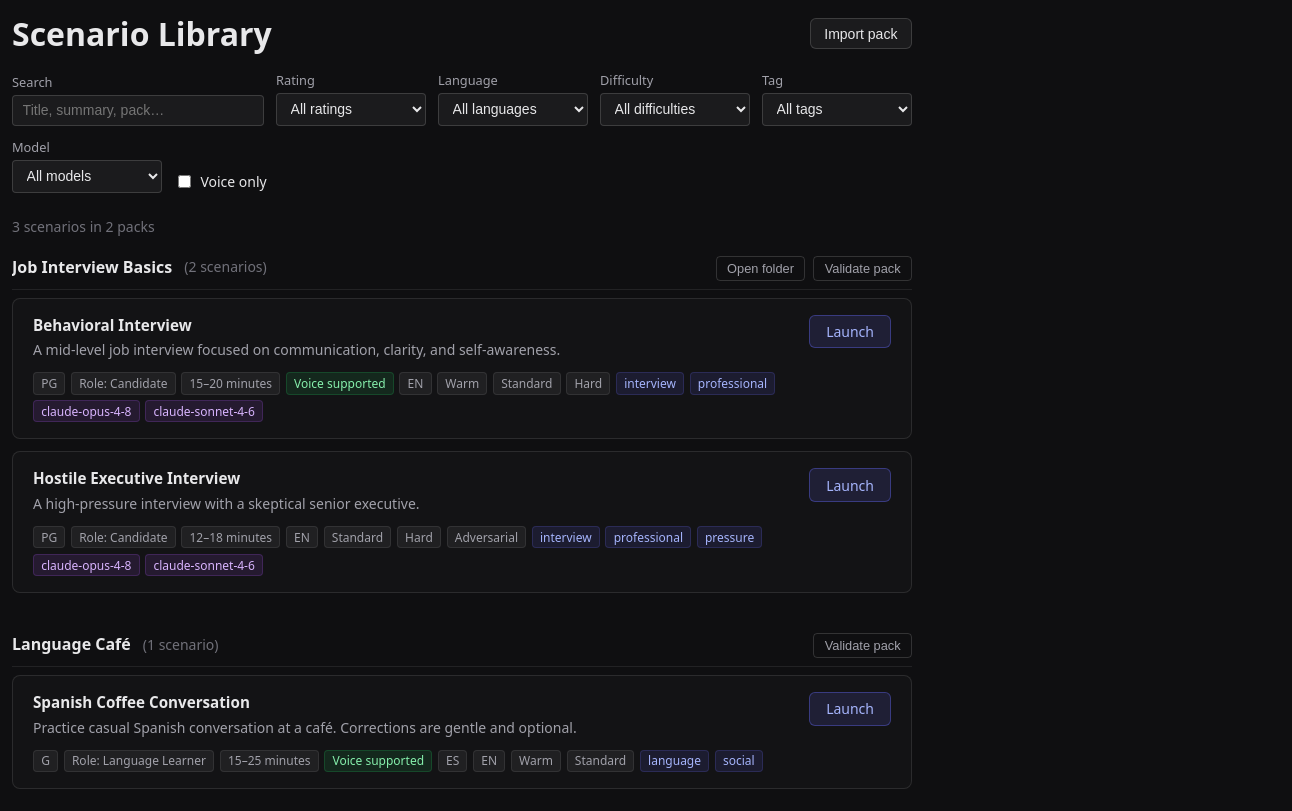
Test: open pack folder › clicking open-folder reveals the pack root path
Step 1. Click the button with test id "open-folder-official.job_interview_basic" → (761, 268), box [716,256,805,281]
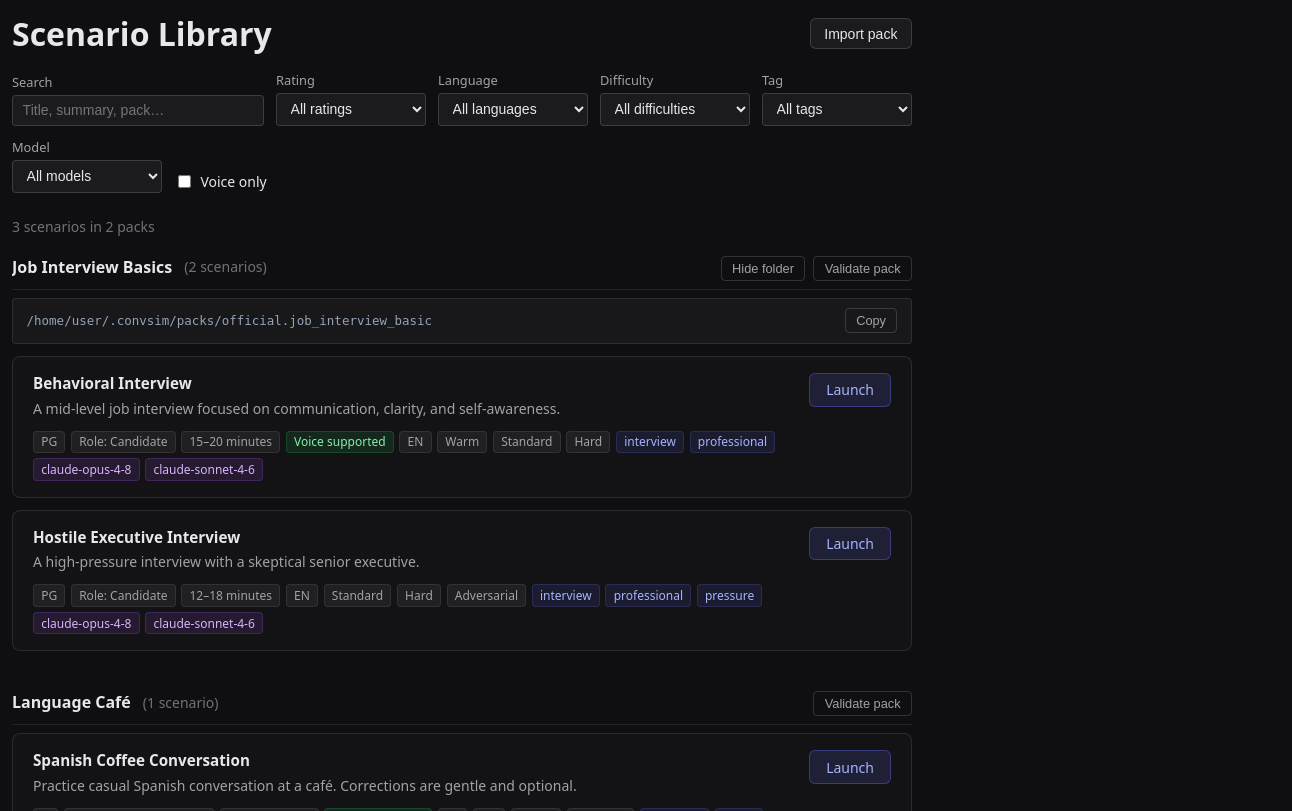
Expected: the element with test id "folder-path-official.job_interview_basic" is shown, [12,298,912,344]
Expected: the element with test id "folder-path-official.job_interview_basic" shows "/home/user/.convsim/packs/official.job_interview_basic", [27,313,432,328]
